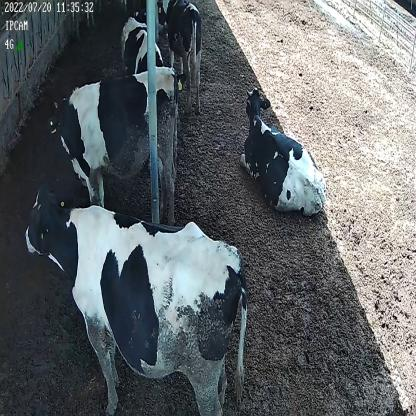cow: (24, 170, 250, 416), (48, 62, 182, 228), (238, 83, 328, 218), (166, 0, 203, 108)
